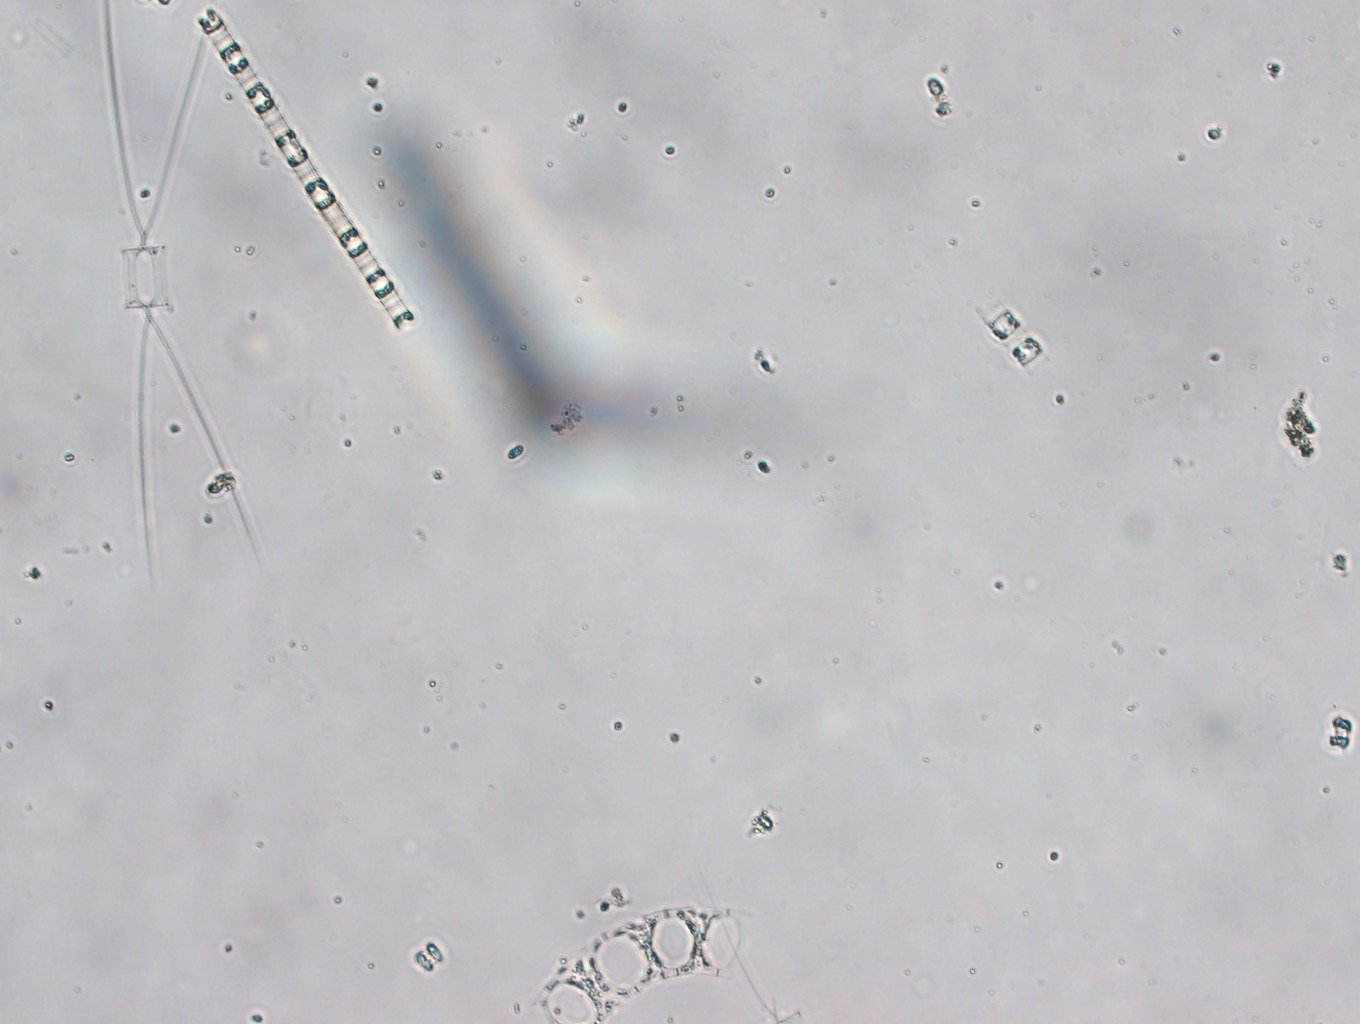chaetoceros: (103, 1, 263, 584)
eucampia: (538, 906, 761, 1024)
skeletonema: (199, 12, 416, 335), (974, 291, 1049, 375)
